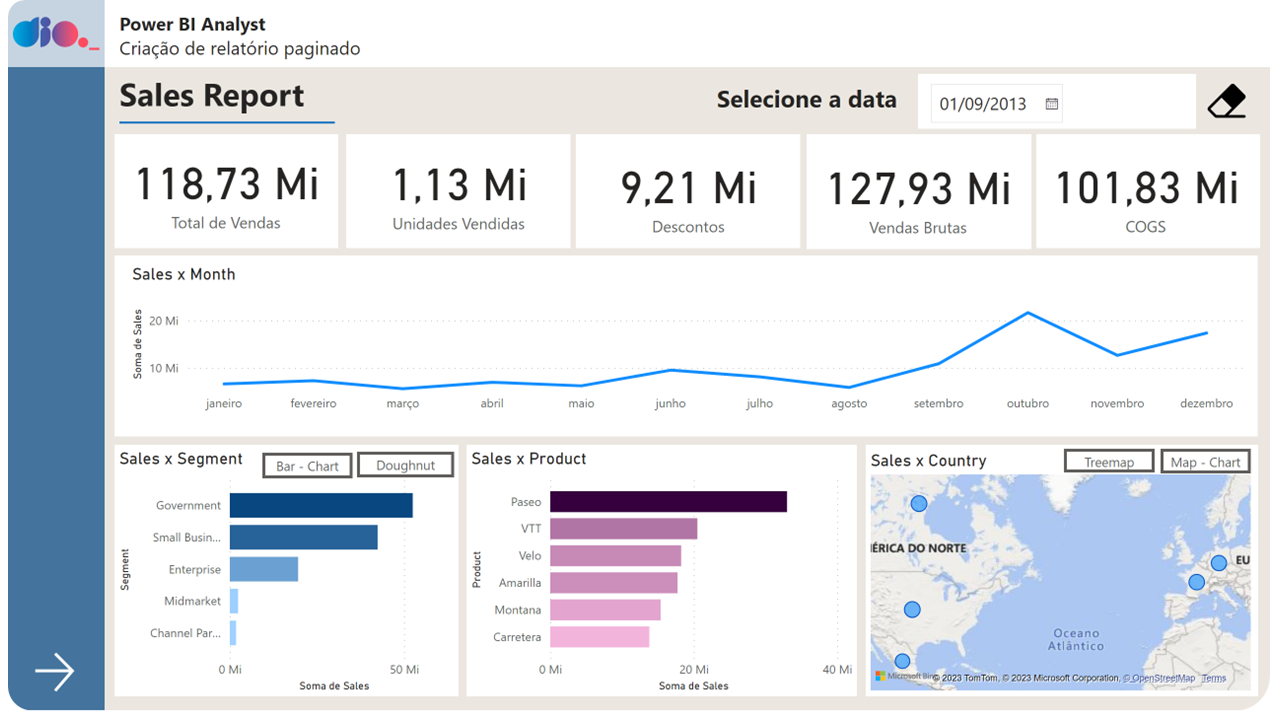

This screenshot's page, from the dashboard's own definition file:
{"tool":"powerbi","page":{"name":"Vendas","canvas":[1280,720],"ordinal":0},"visuals":[{"type":"shape","box":[0,0,1280,720.6],"z":0},{"type":"slicer","fields":{"Values":["financials.Date"]},"box":[923.6,74.5,282,55.4],"z":0,"group":"g2"},{"type":"shape","box":[112.5,87.1,218.6,74.5],"z":0,"group":"g5"},{"type":"shape","box":[1042.6,136.2,227,115.7],"z":0,"group":"g1"},{"type":"treemap","title":"Sales x Country","fields":{"Values":["Sum(financials. Sales)"],"Group":["financials.Country"]},"box":[870.1,458.1,395.7,248.2],"z":0,"group":"g3"},{"type":"shape","box":[0,68.1,98.2,652.7],"z":1000},{"type":"textbox","box":[107.7,68.1,213.9,68.1],"z":1000,"group":"g5"},{"type":"textbox","box":[714.5,77.7,194.9,49.1],"z":1000,"group":"g2"},{"type":"shape","box":[809.9,136.2,228,116.6],"z":1000,"group":"g1"},{"type":"clusteredBarChart","title":"Sales x Segment","fields":{"Y":["Sum(financials. Sales)"],"Category":["financials.Segment"]},"box":[108.2,455.2,349.1,251.1],"z":1000,"group":"g4"},{"type":"map","title":"Sales x Country","fields":{"Size":["Sum(financials. Sales)"],"Category":["financials.Country"]},"box":[869.7,457.1,395.7,248],"z":1000,"group":"g3"},{"type":"actionButton","box":[1070.6,455,92.2,24.2],"z":1250,"group":"g3"},{"type":"actionButton","box":[257.8,458.8,91.3,26],"z":1250,"group":"g4"},{"type":"actionButton","box":[1169.1,455,91.3,25.1],"z":1500,"group":"g3"},{"type":"actionButton","box":[354.3,458.6,98.5,26],"z":1500,"group":"g4"},{"type":"shape","box":[0,0,98.2,68.1],"z":2000},{"type":"image","title":"erase","box":[1205.6,72.9,61.8,53.9],"z":2000,"group":"g2"},{"type":"shape","box":[576.1,136.2,227.6,115.7],"z":2000,"group":"g1"},{"type":"shape","box":[98.2,0,1181.8,68.1],"z":3000},{"type":"actionButton","box":[1216.7,77.7,47.5,47.5],"z":3000,"group":"g2"},{"type":"shape","box":[342.8,136.2,227.6,115.7],"z":3000,"group":"g1"},{"type":"textbox","box":[107.7,6.3,264.6,61.8],"z":4000},{"type":"shape","box":[107.7,136.2,227,115.7],"z":4000,"group":"g1"},{"type":"group","id":"g1","title":"cartoes","box":[107.7,130.9,1161.9,125.7],"z":5000},{"type":"card","fields":{"Values":["Sum(financials.COGS)"]},"box":[1043.9,134.6,220.2,120.4],"z":5000,"group":"g1"},{"type":"card","fields":{"Values":["Sum(financials.Gross Sales)"]},"box":[812.7,136.2,220.2,120.4],"z":6000,"group":"g1"},{"type":"shape","box":[108.2,259.3,1159.6,183.7],"z":6000},{"type":"card","fields":{"Values":["Sum(financials.Discounts)"]},"box":[579.8,134.6,220.2,120.4],"z":7000,"group":"g1"},{"type":"shape","box":[108.2,451.2,349.1,255.2],"z":7000},{"type":"card","fields":{"Values":["Sum(financials.Units Sold)"]},"box":[346.9,131.4,220.2,120.4],"z":8000,"group":"g1"},{"type":"shape","box":[465.5,451.2,396,255.2],"z":8000},{"type":"card","fields":{"Values":["Sum(financials. Sales)"]},"box":[110.9,130.9,220.2,120.4],"z":9000,"group":"g1"},{"type":"shape","box":[869.7,451.2,398.1,255.2],"z":9000},{"type":"image","title":"logo_dio","box":[0,0,98.2,68.1],"z":10000},{"type":"lineChart","title":"Sales x Month","fields":{"Y":["Sum(financials. Sales)"],"Category":["financials.Date.Variation.Hierarquia de datas.Mês"]},"box":[120.9,268.3,1135.9,159],"z":11000},{"type":"clusteredBarChart","title":"Sales x Product","fields":{"Y":["Sum(financials. Sales)"],"Category":["financials.Product"]},"box":[465.5,455.2,396,251.1],"z":12000},{"type":"group","id":"g2","title":"filtro por data","box":[714.5,72.9,552.9,57],"z":13000},{"type":"group","id":"g3","title":"Sales x Pais","box":[869.7,455,396,251.4],"z":14000},{"type":"group","id":"g4","title":"Sales x Segmento","box":[108.2,455.2,349.1,251.1],"z":15000},{"type":"group","id":"g5","title":"titulo do relatorio","box":[107.7,68.1,223.4,93.5],"z":16000},{"type":"actionButton","box":[20.6,655.5,51.9,51],"z":17000}]}

Visuals, with their boxes on the page's 1280x720 design canvas (x1, y1, x2, y2). These are canvas units, not pixel positions in the 1280x720 screenshot, which may show the page scaled, cropped or inside an application window:
shape: BBox(0, 0, 1280, 721)
slicer - financials.Date: BBox(924, 74, 1206, 130)
shape: BBox(112, 87, 331, 162)
shape: BBox(1043, 136, 1270, 252)
"Sales x Country" treemap: BBox(870, 458, 1266, 706)
shape: BBox(0, 68, 98, 721)
textbox: BBox(108, 68, 322, 136)
textbox: BBox(714, 78, 909, 127)
shape: BBox(810, 136, 1038, 253)
"Sales x Segment" clusteredBarChart: BBox(108, 455, 457, 706)
"Sales x Country" map: BBox(870, 457, 1265, 705)
actionButton: BBox(1071, 455, 1163, 479)
actionButton: BBox(258, 459, 349, 485)
actionButton: BBox(1169, 455, 1260, 480)
actionButton: BBox(354, 459, 453, 485)
shape: BBox(0, 0, 98, 68)
"erase" image: BBox(1206, 73, 1267, 127)
shape: BBox(576, 136, 804, 252)
shape: BBox(98, 0, 1280, 68)
actionButton: BBox(1217, 78, 1264, 125)
shape: BBox(343, 136, 570, 252)
textbox: BBox(108, 6, 372, 68)
shape: BBox(108, 136, 335, 252)
"cartoes" group: BBox(108, 131, 1270, 257)
card - Sum(financials.COGS): BBox(1044, 135, 1264, 255)
card - Sum(financials.Gross Sales): BBox(813, 136, 1033, 257)
shape: BBox(108, 259, 1268, 443)
card - Sum(financials.Discounts): BBox(580, 135, 800, 255)
shape: BBox(108, 451, 457, 706)
card - Sum(financials.Units Sold): BBox(347, 131, 567, 252)
shape: BBox(466, 451, 862, 706)
card - Sum(financials. Sales): BBox(111, 131, 331, 251)
shape: BBox(870, 451, 1268, 706)
"logo_dio" image: BBox(0, 0, 98, 68)
"Sales x Month" lineChart: BBox(121, 268, 1257, 427)
"Sales x Product" clusteredBarChart: BBox(466, 455, 862, 706)
"filtro por data" group: BBox(714, 73, 1267, 130)
"Sales x Pais" group: BBox(870, 455, 1266, 706)
"Sales x Segmento" group: BBox(108, 455, 457, 706)
"titulo do relatorio" group: BBox(108, 68, 331, 162)
actionButton: BBox(21, 656, 72, 706)
